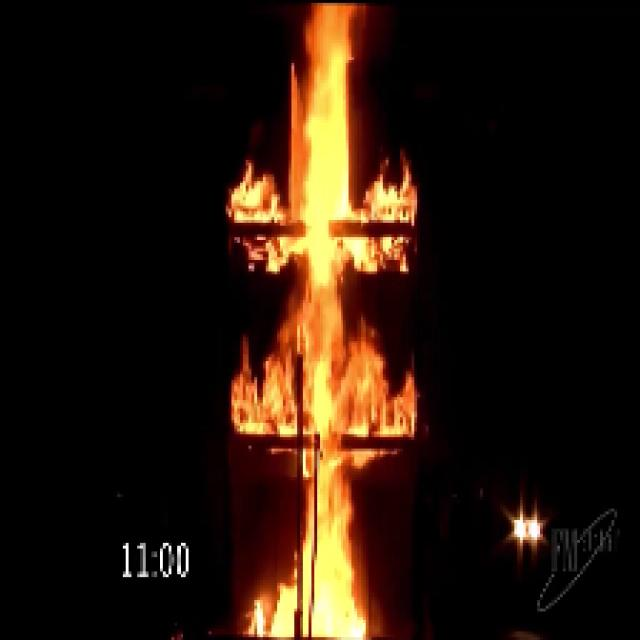fire: (254, 11, 377, 640)
